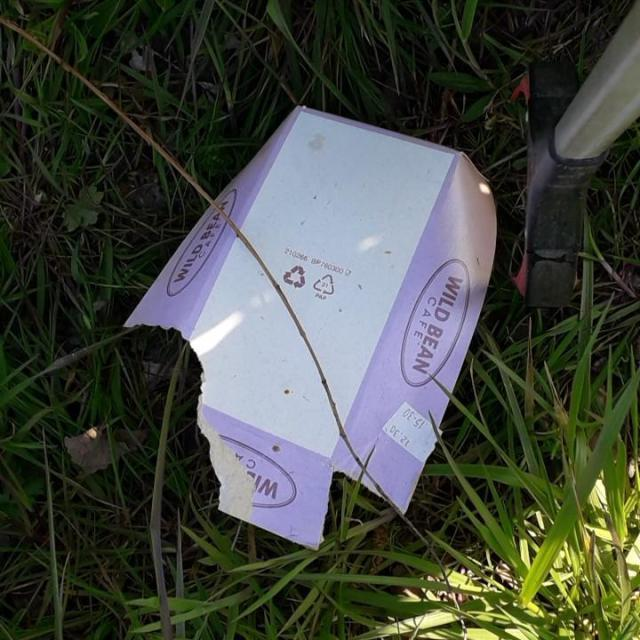Paper: (120, 100, 500, 554)
